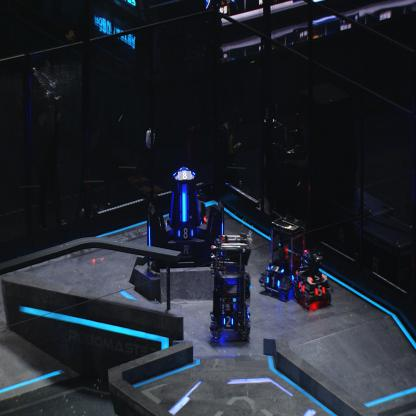car: (210, 229, 252, 342), (259, 216, 305, 297), (294, 248, 332, 308)
